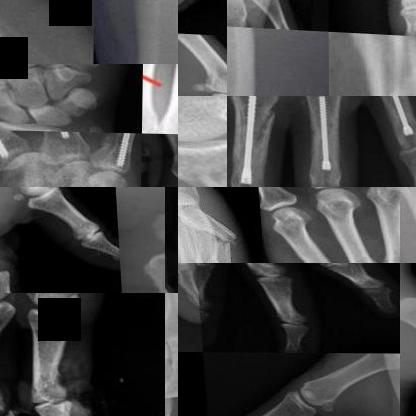fracture: (227, 96, 280, 186), (355, 30, 415, 96), (309, 96, 347, 183), (182, 140, 227, 186), (198, 220, 237, 258), (111, 132, 142, 179), (0, 129, 18, 168), (0, 385, 22, 415)
